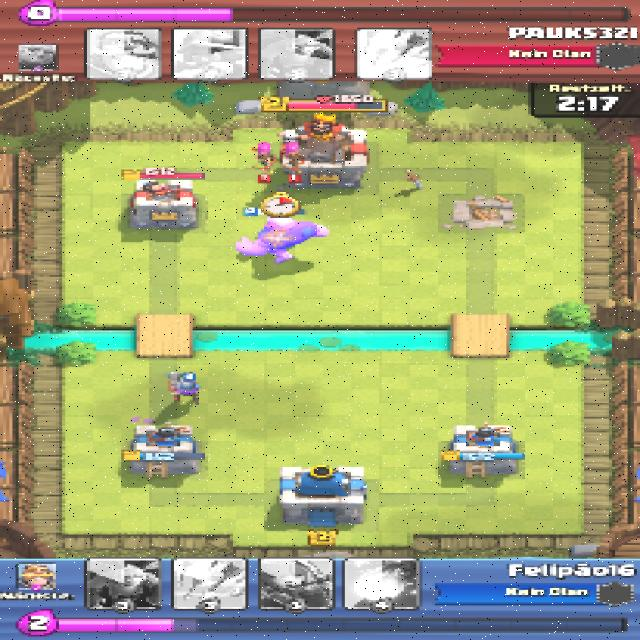Enemy-Archer: (250, 142, 273, 166), (278, 144, 301, 166)
Player-Giant: (240, 218, 333, 260)
Player-Musketeer: (165, 370, 202, 402)
